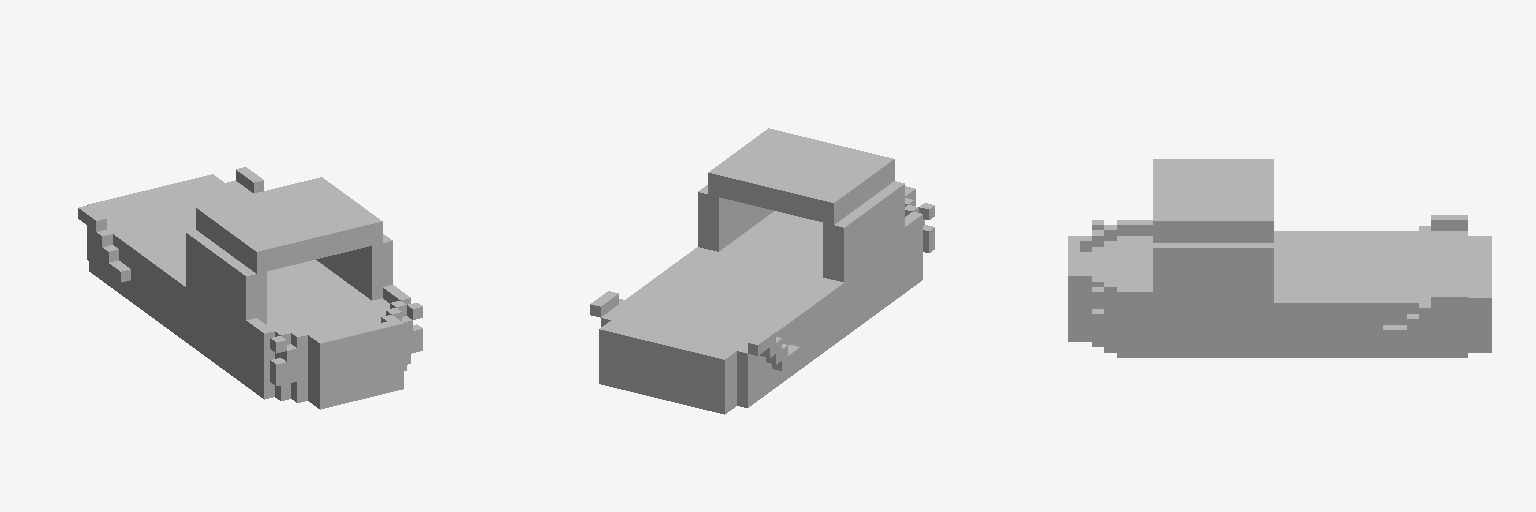
File: Zapilette2.obj
3 renders of one model, left to right at view 1: azimuth 30°, elevation 25°; view 2: azimuth 150°, elevation 25°; view 3: azimuth 270°, elevation 25°, orthographic.
Parts seen in each view (by area): view 1: object 1; view 2: object 1; view 3: object 1.
Boxes of the visible parts, x1,y1,x2,y2 form: object 1: [78, 167, 422, 409]; object 1: [590, 128, 934, 414]; object 1: [1068, 159, 1491, 357].
Bounding box in the file's own units: 1.6 × 1.2 × 3.5.